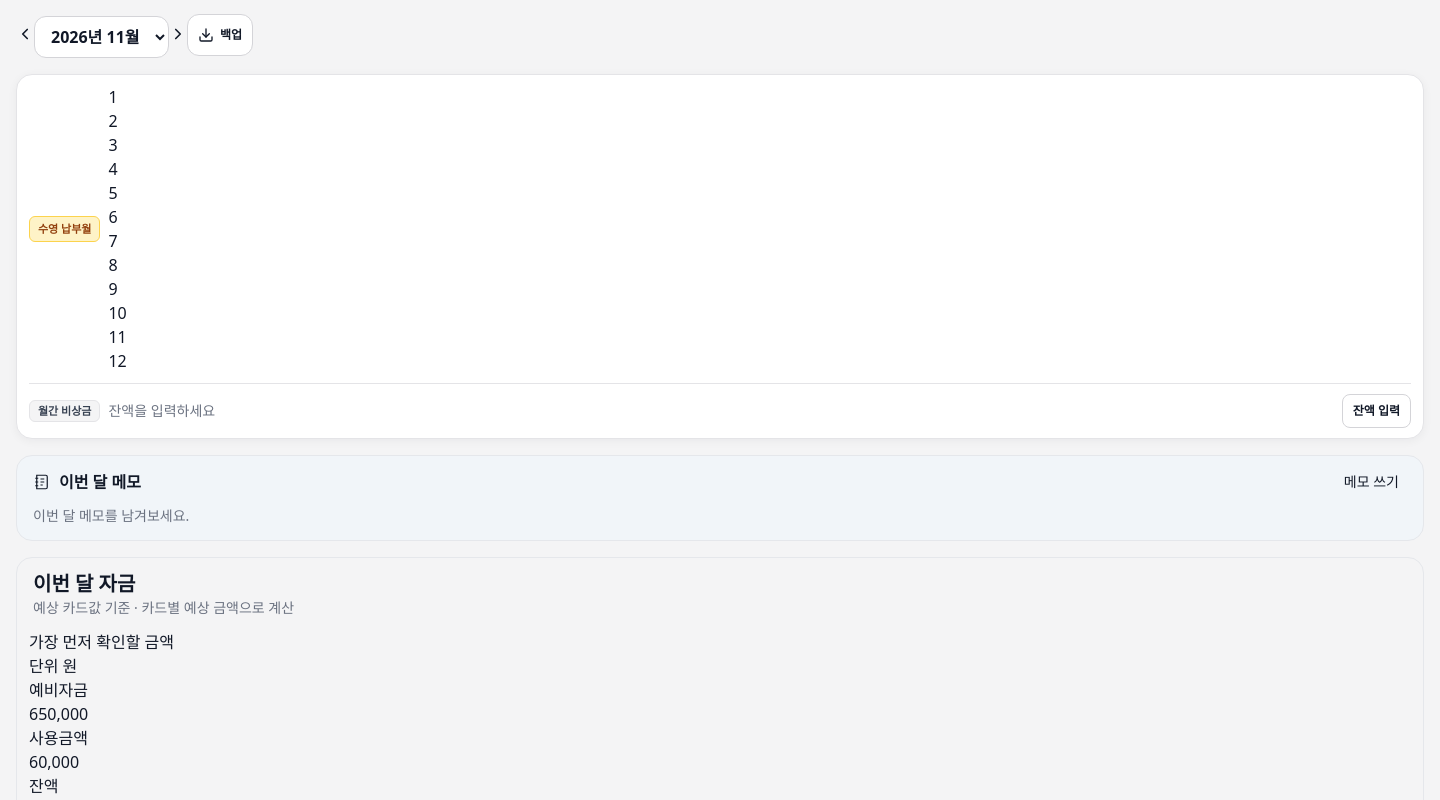
DashboardPage › defaults bottom funding to actual when actuals exist and remembers manual overrides per month
Select "2026년 4월" in the dropdown named "기준월": x=102, y=37 top-left (34, 16), bottom-right (169, 58)
(page scrolled)
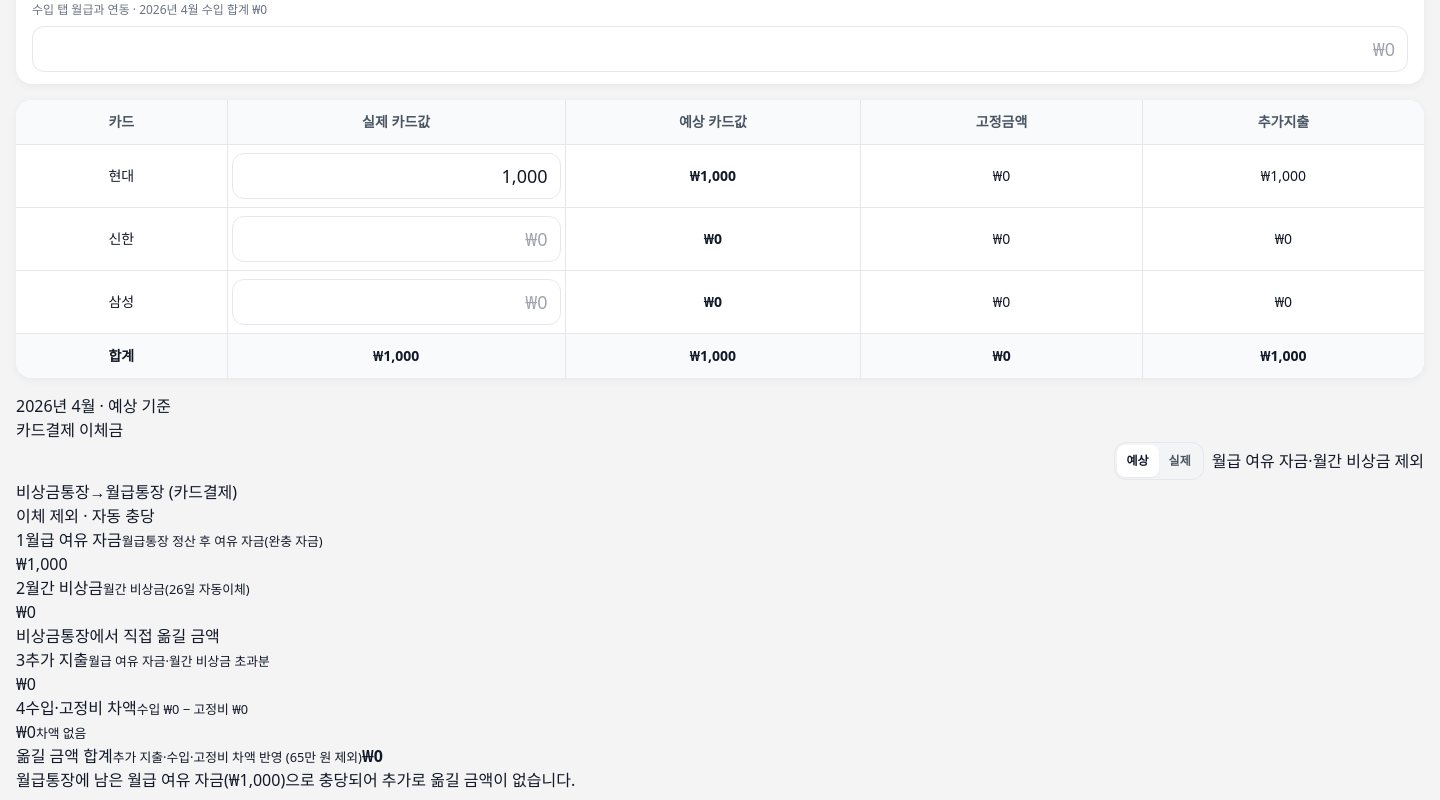
Check: the text "2026년 4월 · 예상 기준" is shown, box top-left (16, 395), bottom-right (171, 417)
Click the button "실제": x=1180, y=461 top-left (1159, 445), bottom-right (1201, 477)
(page scrolled)
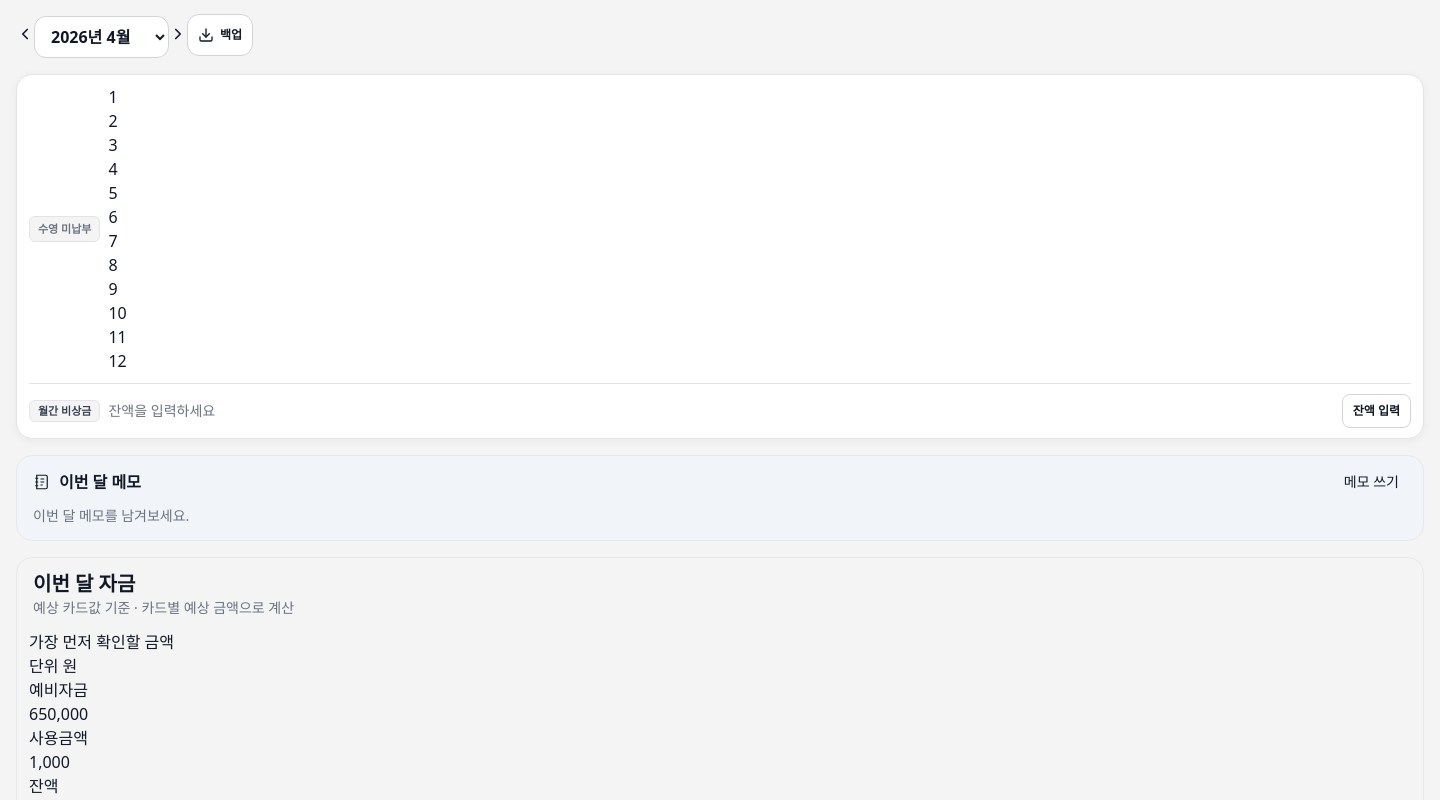
Select "2026년 5월" in the dropdown named "기준월": x=102, y=37 top-left (34, 16), bottom-right (169, 58)
(page scrolled)
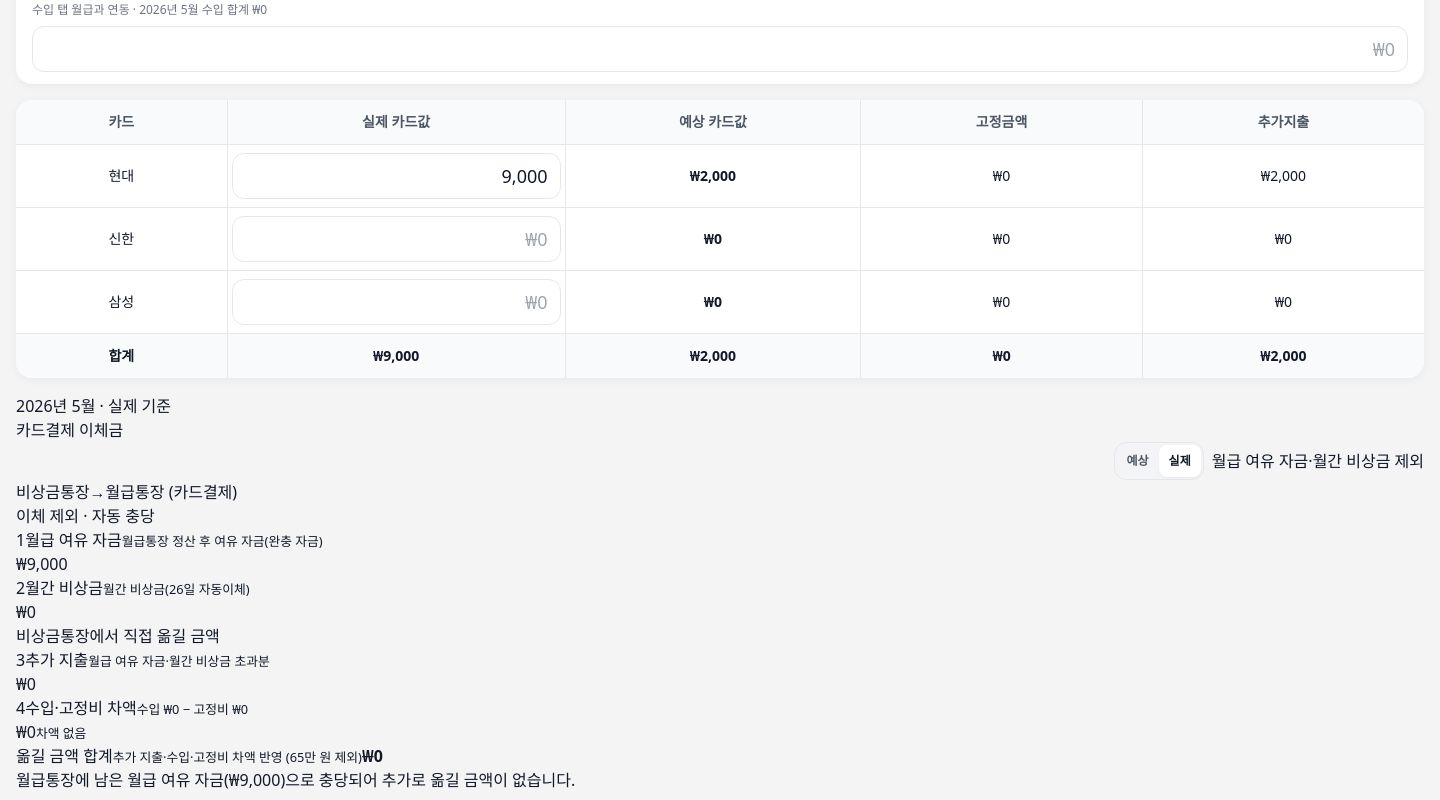
Check: the text "2026년 5월 · 실제 기준" is shown, box top-left (16, 395), bottom-right (171, 417)
Click the button "예상": x=1138, y=461 top-left (1116, 445), bottom-right (1159, 477)
(page scrolled)
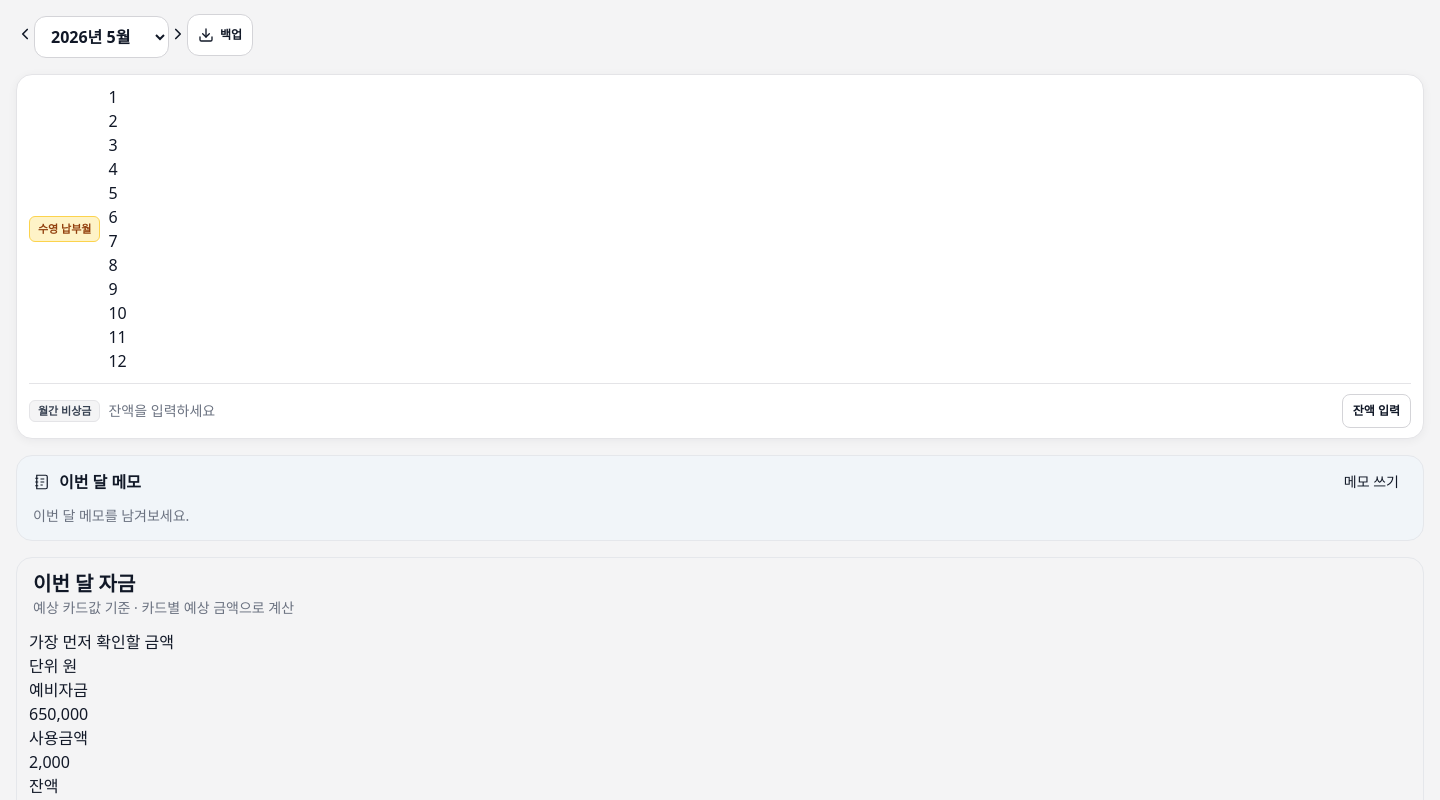
Select "2026년 4월" in the dropdown named "기준월": x=102, y=37 top-left (34, 16), bottom-right (169, 58)
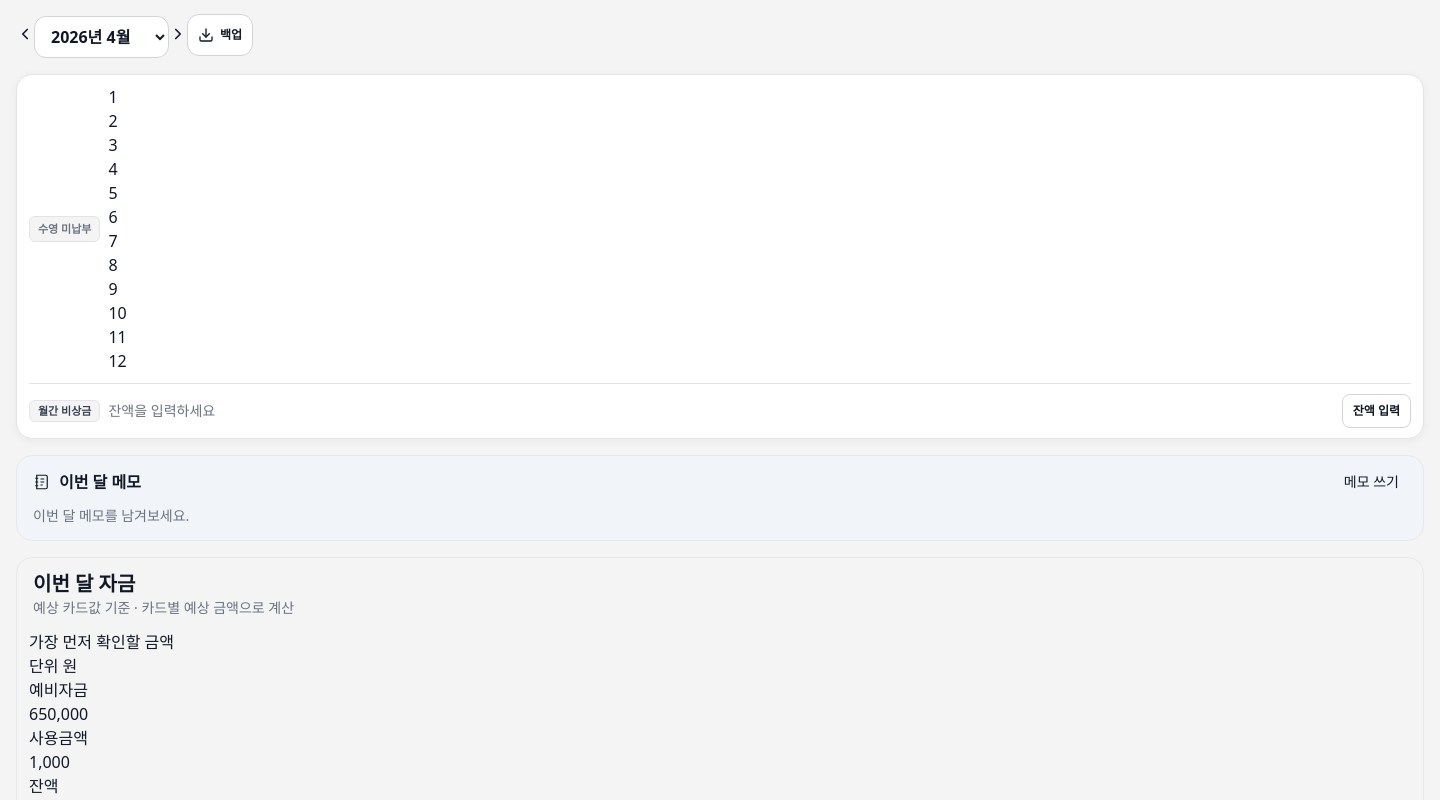
Select "2026년 5월" in the dropdown named "기준월": x=102, y=37 top-left (34, 16), bottom-right (169, 58)
(page scrolled)
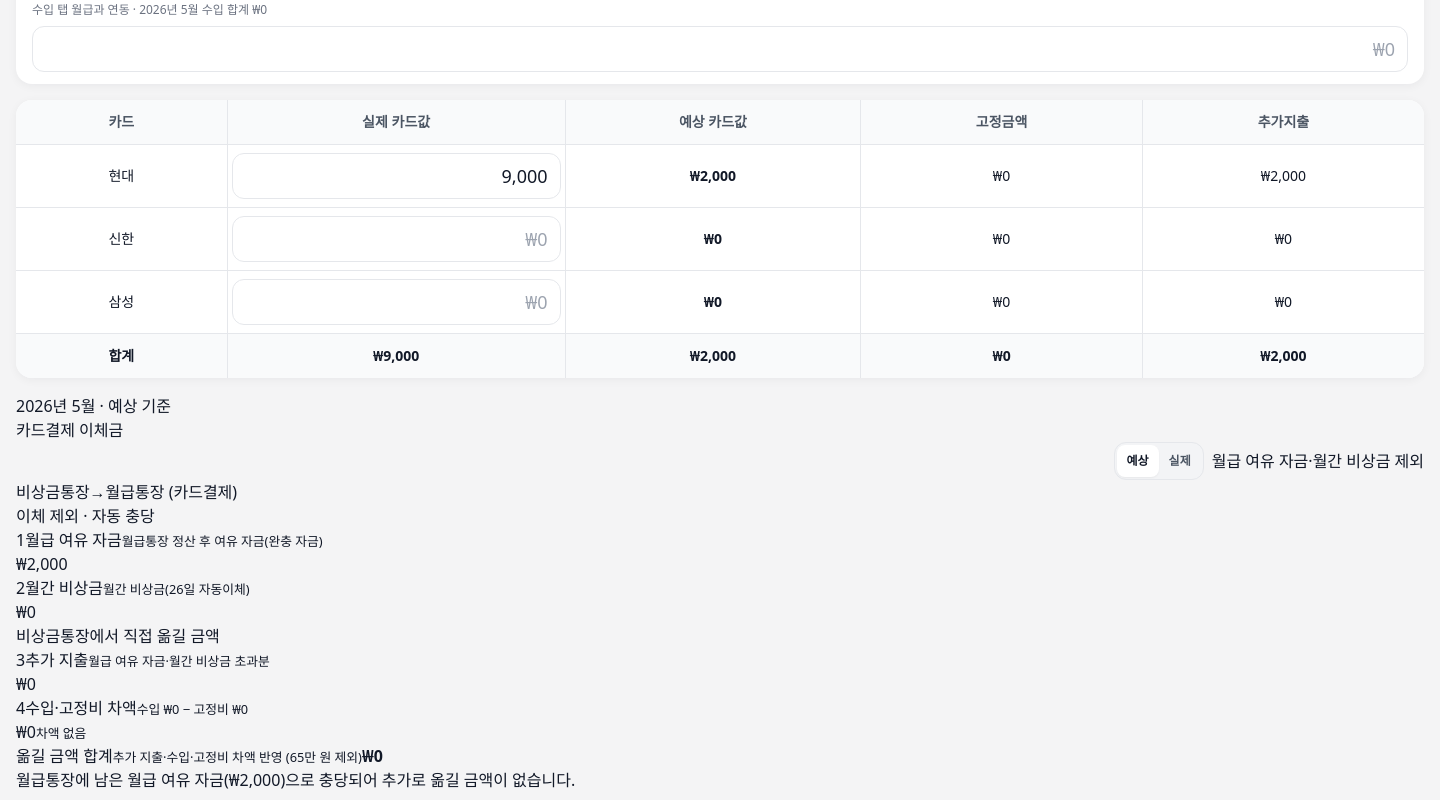
Check: the text "2026년 5월 · 예상 기준" is shown, box top-left (16, 395), bottom-right (171, 417)
